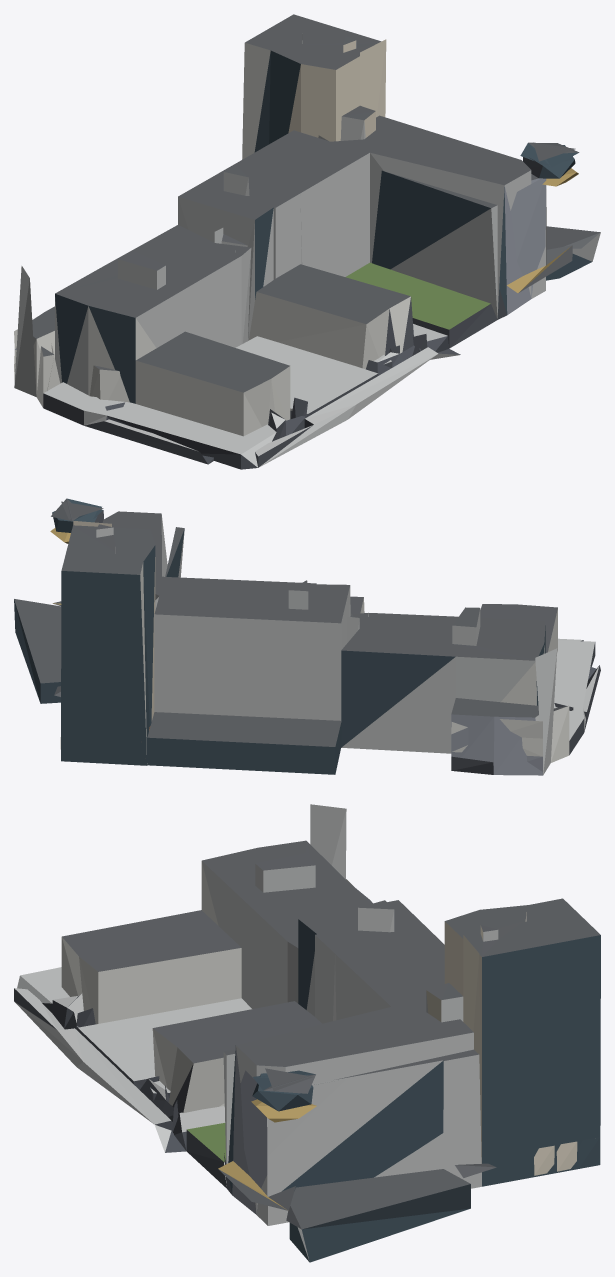
Rendered from byzantium.lod2.glb.
3 views of the same model, one above another, from view 1: azimuth 30°, elevation 25°; view 2: azimuth 150°, elevation 25°; view 3: azimuth 270°, elevation 25° (orthographic). The views are drawn at different scales.
Parts seen in each view (by area): view 1: lod2; view 2: lod2; view 3: lod2.
Part boxes in pixels (left/top/right/bottom): lod2: left=14, top=14, right=600, bottom=469; lod2: left=14, top=498, right=600, bottom=775; lod2: left=14, top=804, right=600, bottom=1262.
Size of the model in its own units: 117 by 40.96 by 90.22.
